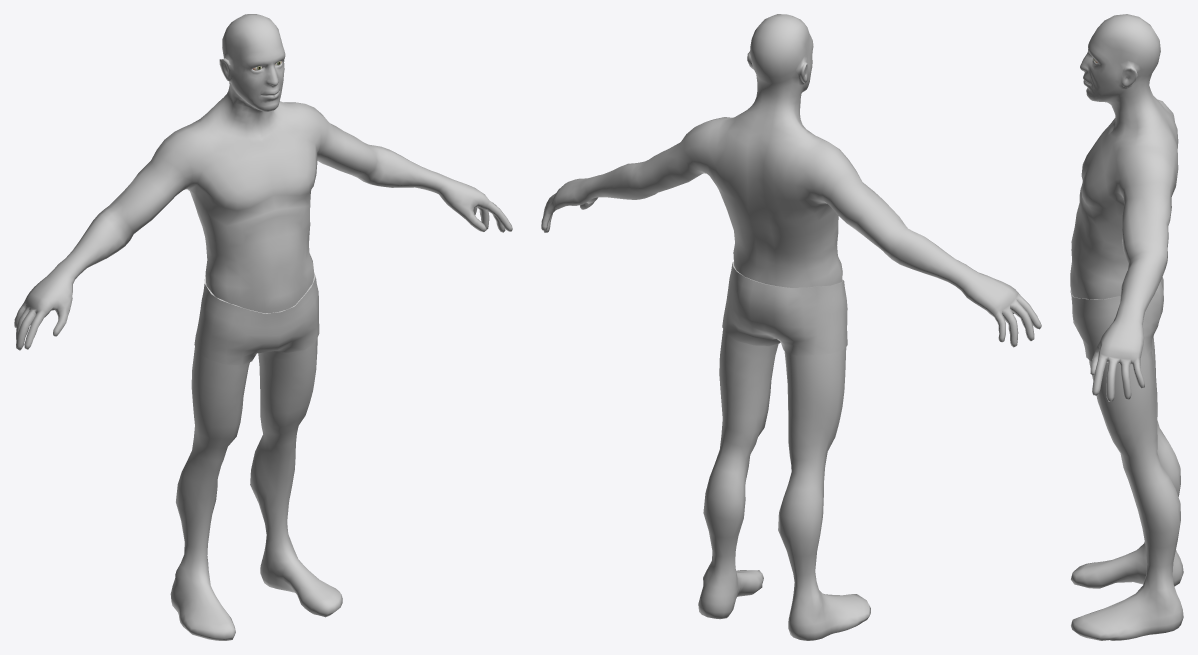
The model's file is Male01_low.fbx.
3 renders of one model, left to right at view 1: azimuth 30°, elevation 25°; view 2: azimuth 150°, elevation 25°; view 3: azimuth 270°, elevation 25°, orthographic.
Parts seen in each view (by area): view 1: body_low, underwear_low; view 2: body_low, underwear_low; view 3: body_low, underwear_low.
Boxes of the visible parts, left/top/right/bottom form: body_low: left=14, top=14, right=512, bottom=640; underwear_low: left=194, top=273, right=319, bottom=365; body_low: left=541, top=14, right=1041, bottom=640; underwear_low: left=722, top=261, right=847, bottom=355; body_low: left=1070, top=14, right=1183, bottom=640; underwear_low: left=1070, top=277, right=1163, bottom=363.
Size of the model in its own units: 156 by 182 by 31.55.
